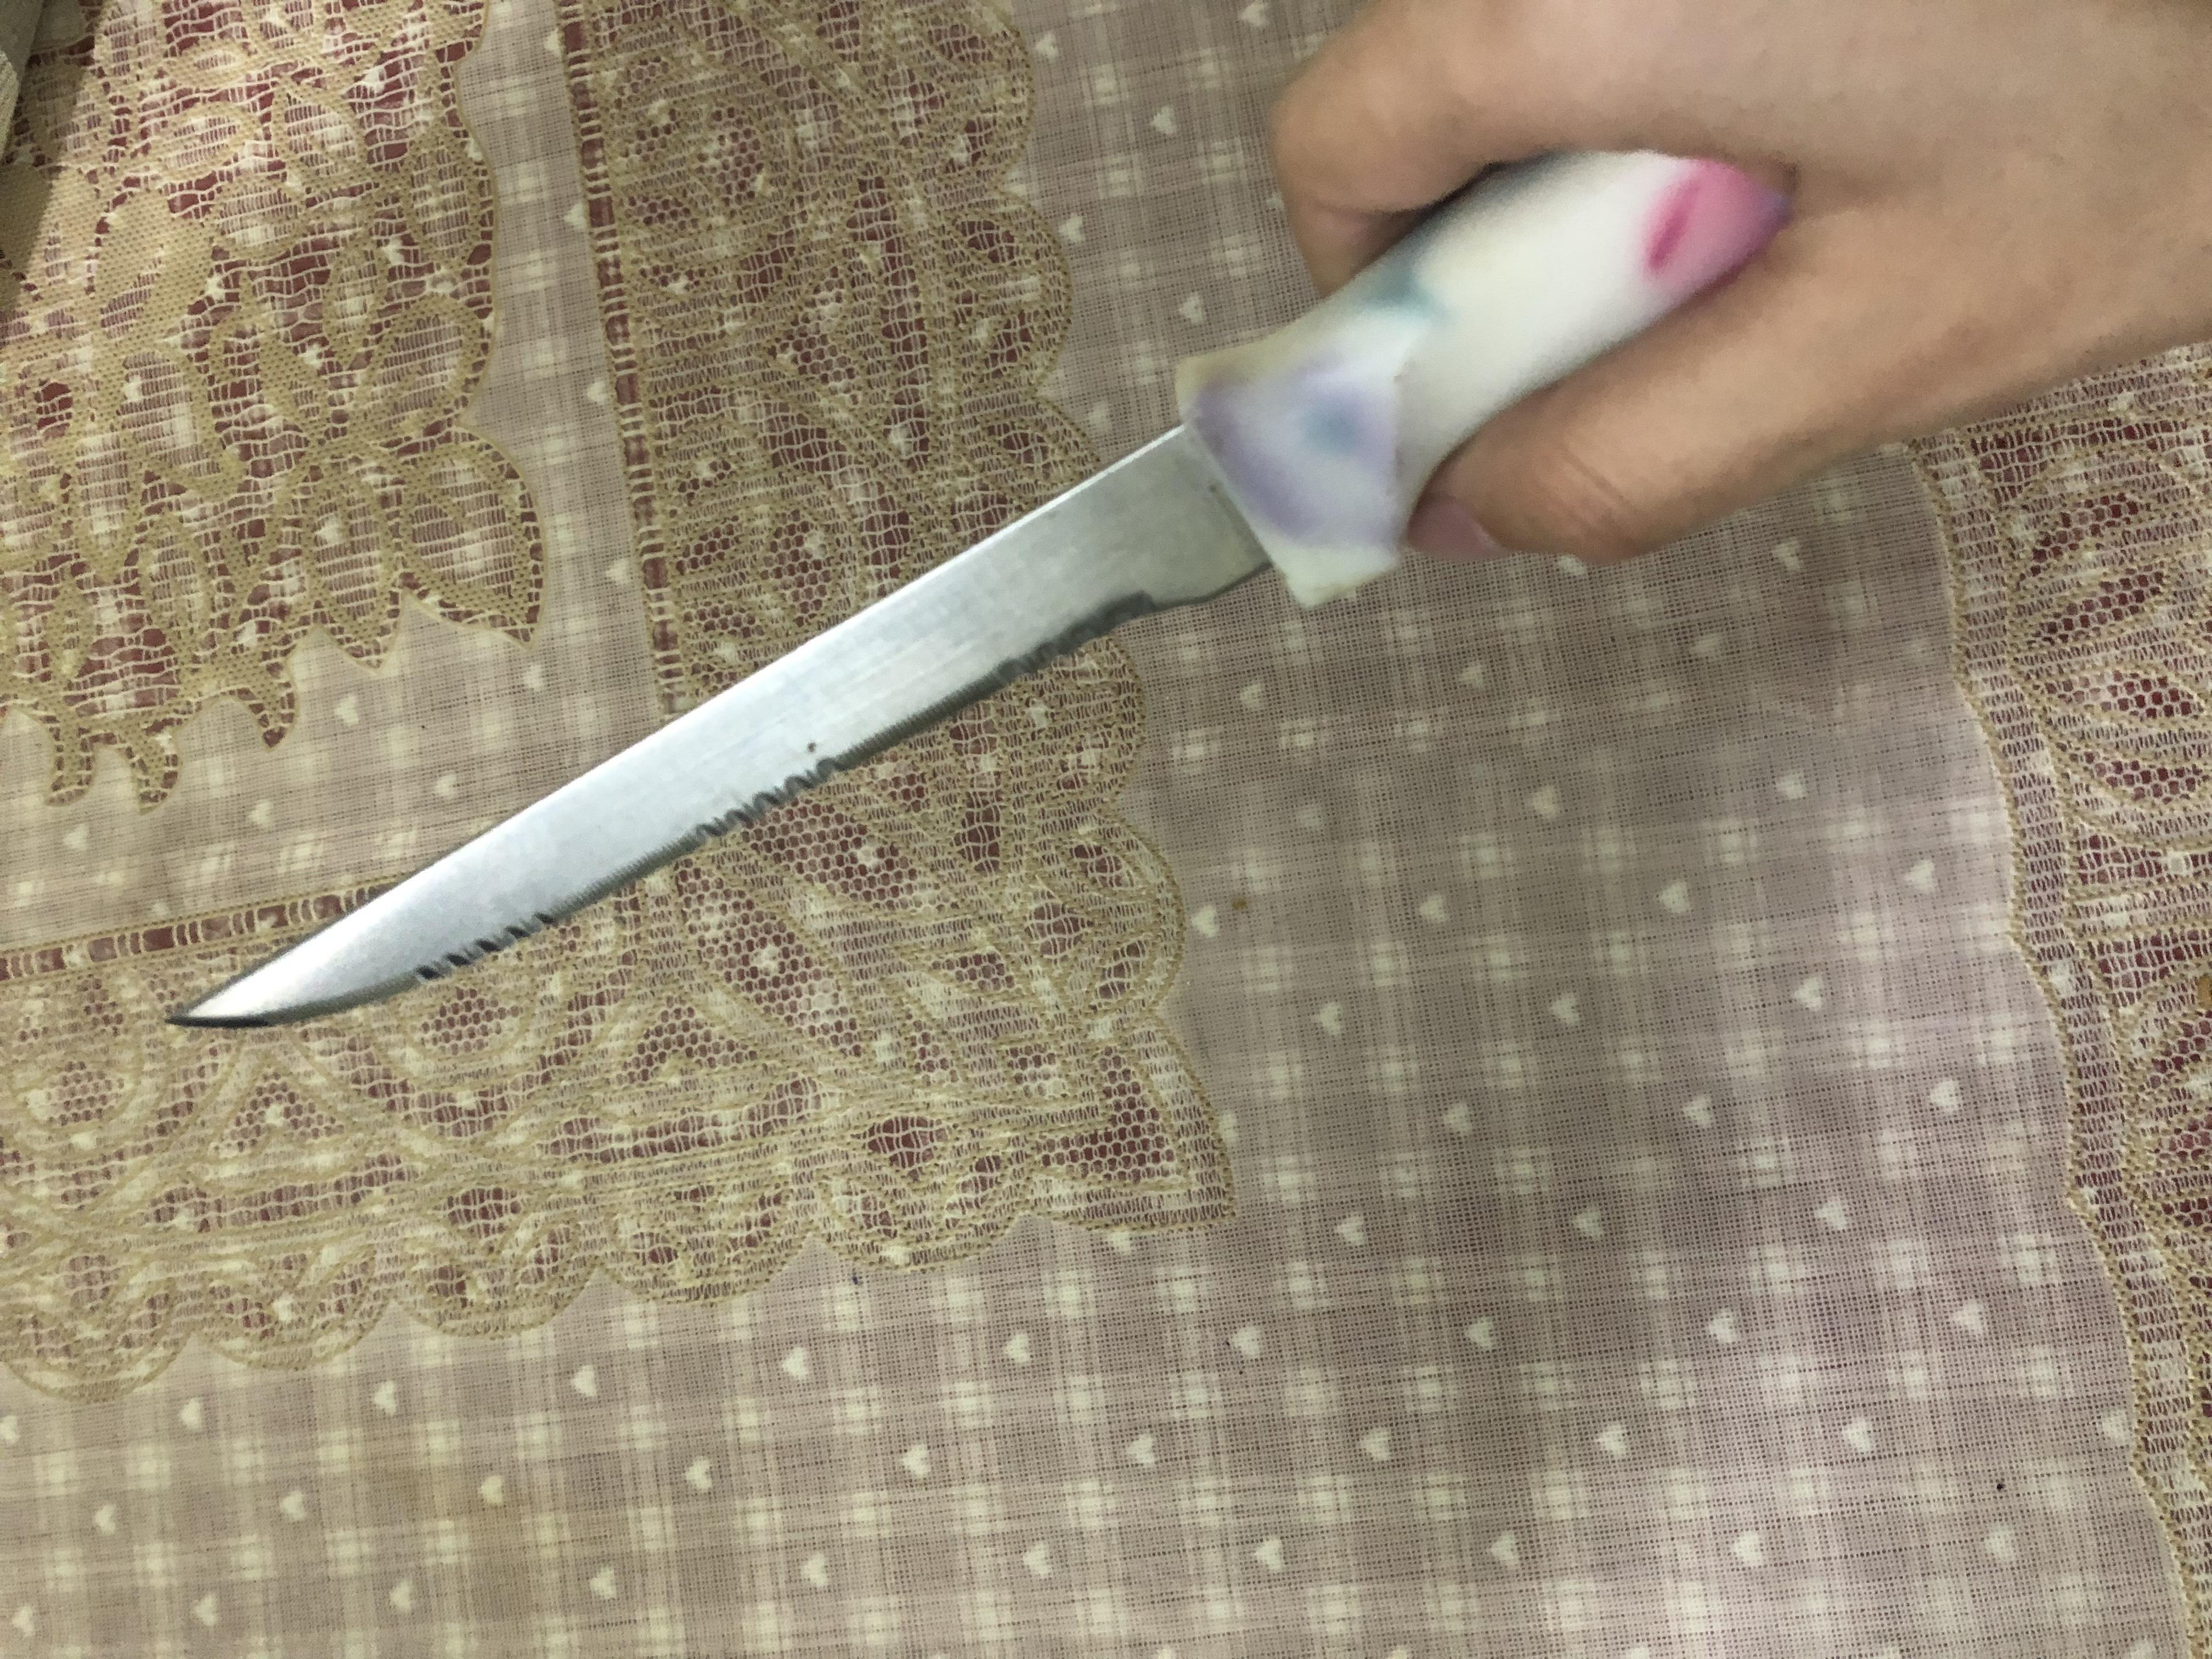weapon: (827, 124, 2022, 1345)
